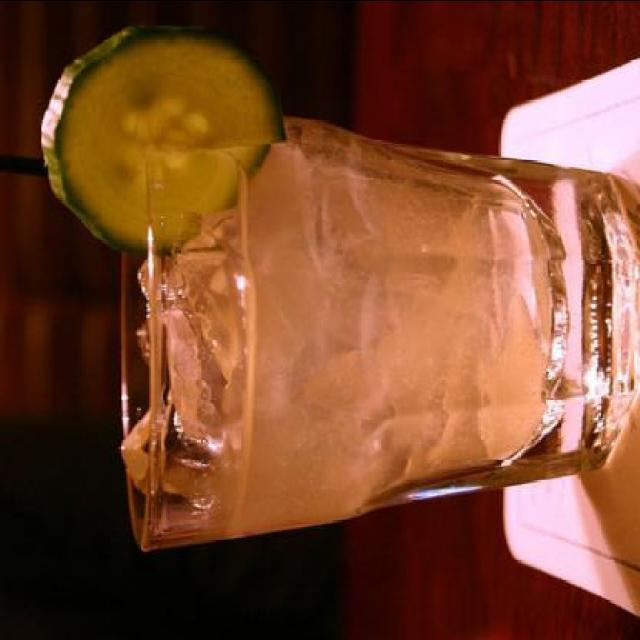Juice: (89, 94, 626, 560)
